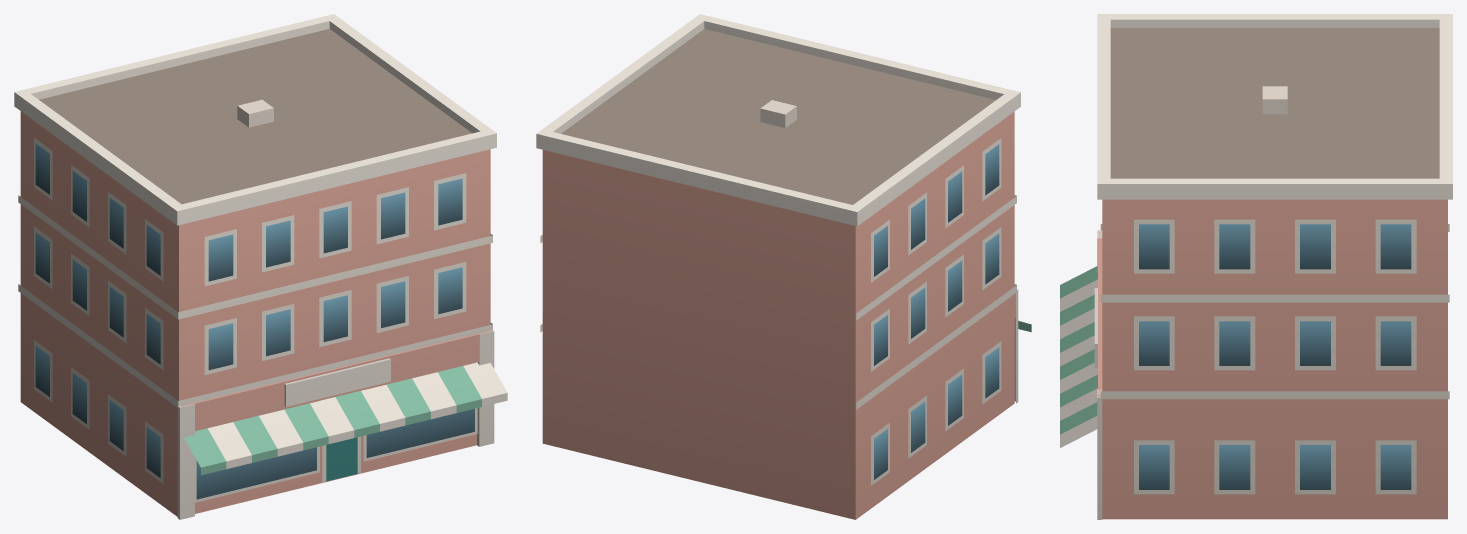
Rendered from winter_n1_far.glb.
The picture shows the model from 3 angles, left to right: view 1: azimuth 30°, elevation 25°; view 2: azimuth 150°, elevation 25°; view 3: azimuth 270°, elevation 25°; orthographic projection. The views are drawn at different scales.
Parts seen in each view (by area): view 1: winter_n1_far; view 2: winter_n1_far; view 3: winter_n1_far.
Boxes of the visible parts, <box> form: winter_n1_far: <box>14,14,507,519</box>; winter_n1_far: <box>536,14,1031,519</box>; winter_n1_far: <box>1060,14,1452,519</box>.
Size of the model in its own units: 12.82 by 12.07 by 12.51.
Materials: 1 (1 with a texture image).
